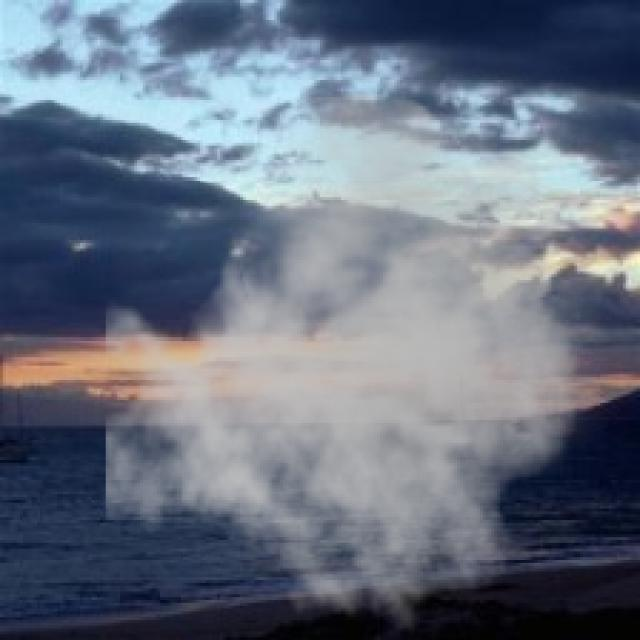Smoke: (106, 91, 628, 634)
